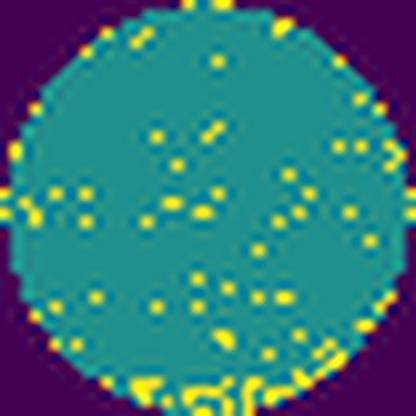Edge-Loc: (179, 369, 301, 415), (125, 372, 170, 407)
